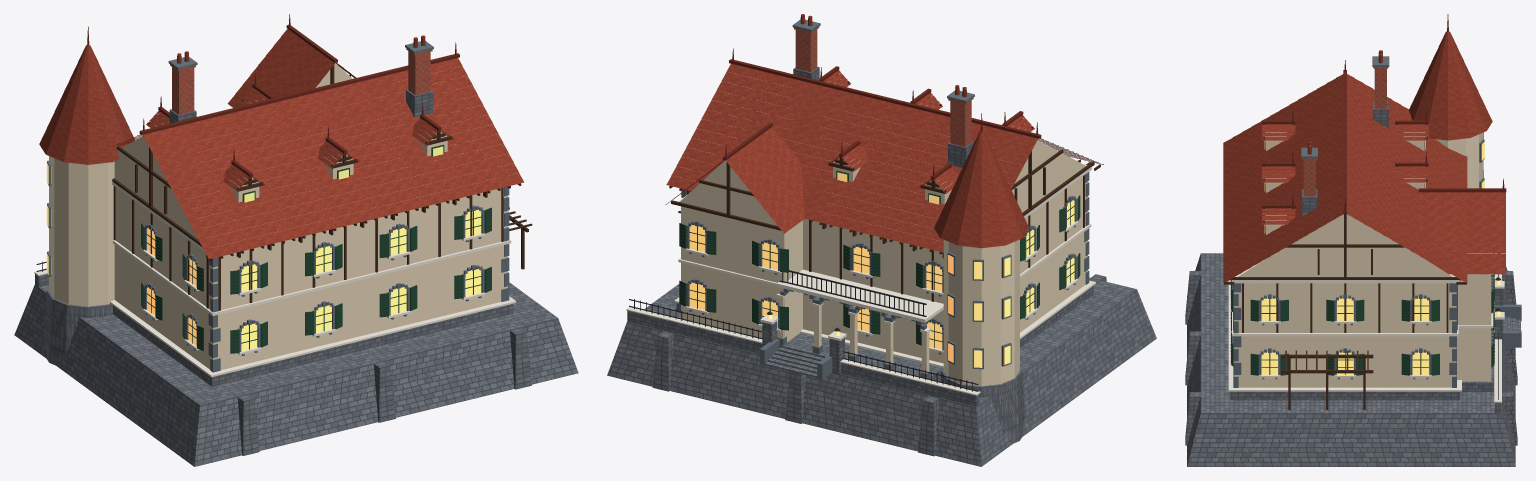
File: fv_tqd_06_tran_quang_dieu_08_centennial_normandy_villa.glb
3 views of the same model, side by side, from view 1: azimuth 30°, elevation 25°; view 2: azimuth 150°, elevation 25°; view 3: azimuth 270°, elevation 25° (orthographic). The views are drawn at different scales.
Parts seen in each view (by area): view 1: Normandy_Brittany_Layered_Roof, Foundation_Skirt_Neg3p5m, Villa_Stucco_Walls, Molded_Cornices_And_Sills, PineGreen_Louvered_Shutters, Stone_Quoins_And_Arches, Exposed_Timber_Trusses_And_Rafters, Warm_Night_Windows_20h00_Blend, Roof_Ridges_Caps_And_Finials, Brick_Chimney_Stacks; view 2: Foundation_Skirt_Neg3p5m, Normandy_Brittany_Layered_Roof, Villa_Stucco_Walls, Molded_Cornices_And_Sills, Stone_Quoins_And_Arches, Warm_Night_Windows_20h00_Blend, PineGreen_Louvered_Shutters, Exposed_Timber_Trusses_And_Rafters, Roof_Ridges_Caps_And_Finials, Wrought_Iron_Balustrades_And_Gate, Brick_Chimney_Stacks; view 3: Normandy_Brittany_Layered_Roof, Foundation_Skirt_Neg3p5m, Villa_Stucco_Walls, Molded_Cornices_And_Sills, Exposed_Timber_Trusses_And_Rafters, Stone_Quoins_And_Arches, PineGreen_Louvered_Shutters, Warm_Night_Windows_20h00_Blend, Roof_Ridges_Caps_And_Finials, Brick_Chimney_Stacks.
Boxes of the visible parts, x1,y1,x2,y2 form: Normandy_Brittany_Layered_Roof: (39, 29, 524, 259); Foundation_Skirt_Neg3p5m: (14, 89, 578, 466); Villa_Stucco_Walls: (49, 63, 507, 369); Molded_Cornices_And_Sills: (34, 97, 516, 377); PineGreen_Louvered_Shutters: (141, 144, 491, 353); Stone_Quoins_And_Arches: (47, 41, 509, 372); Exposed_Timber_Trusses_And_Rafters: (112, 65, 532, 310); Warm_Night_Windows_20h00_Blend: (46, 146, 481, 351); Roof_Ridges_Caps_And_Finials: (87, 14, 459, 184); Brick_Chimney_Stacks: (170, 48, 432, 114); Foundation_Skirt_Neg3p5m: (607, 66, 1156, 466); Normandy_Brittany_Layered_Roof: (666, 14, 1037, 252); Villa_Stucco_Walls: (680, 95, 1087, 386); Molded_Cornices_And_Sills: (626, 81, 1095, 395); Stone_Quoins_And_Arches: (681, 19, 1089, 379); Warm_Night_Windows_20h00_Blend: (689, 172, 1074, 367); PineGreen_Louvered_Shutters: (679, 170, 1080, 347); Exposed_Timber_Trusses_And_Rafters: (669, 70, 1100, 301); Roof_Ridges_Caps_And_Finials: (665, 48, 1103, 204); Wrought_Iron_Balustrades_And_Gate: (629, 270, 978, 391); Brick_Chimney_Stacks: (794, 27, 973, 146); Normandy_Brittany_Layered_Roof: (1223, 31, 1505, 282); Foundation_Skirt_Neg3p5m: (1185, 101, 1520, 466); Villa_Stucco_Walls: (1234, 132, 1491, 387); Molded_Cornices_And_Sills: (1228, 132, 1504, 402); Exposed_Timber_Trusses_And_Rafters: (1223, 124, 1499, 409); Stone_Quoins_And_Arches: (1231, 56, 1521, 387); PineGreen_Louvered_Shutters: (1230, 141, 1494, 375); Warm_Night_Windows_20h00_Blend: (1261, 141, 1500, 374); Roof_Ridges_Caps_And_Finials: (1262, 14, 1506, 214); Brick_Chimney_Stacks: (1302, 67, 1388, 196).
Bounding box in the file's own units: 27.51 × 21.63 × 22.12.
Materials: 12 (3 with a texture image).
